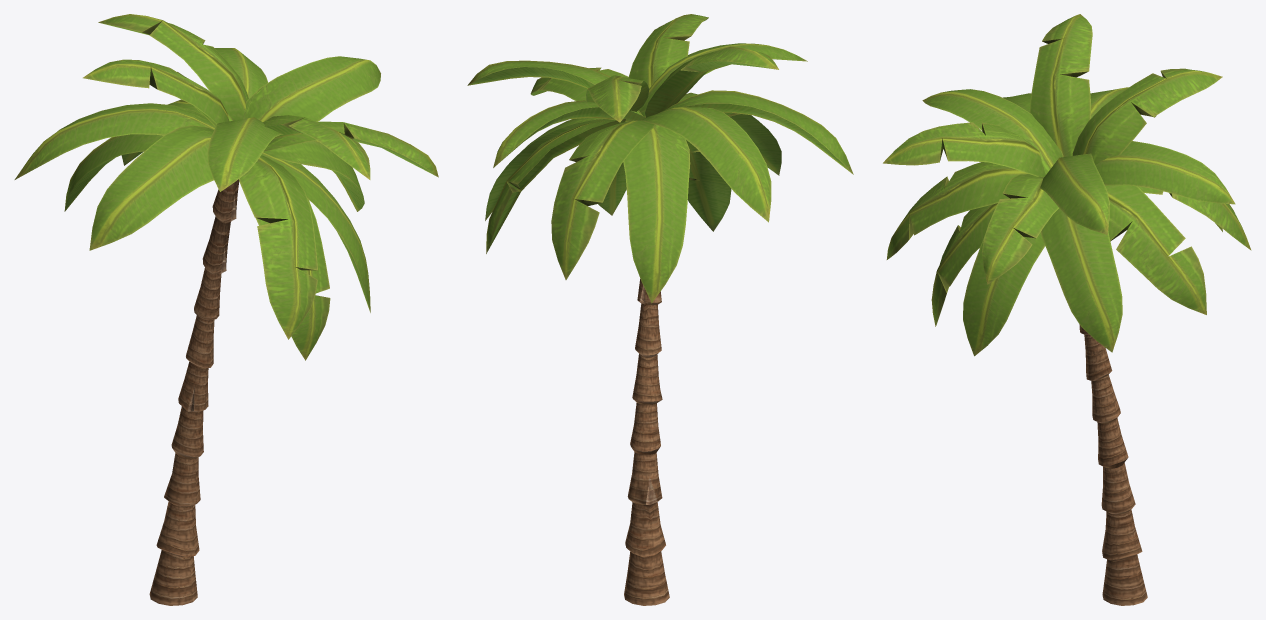
The model's file is prop4.glb.
3 renders of one model, left to right at view 1: azimuth 30°, elevation 25°; view 2: azimuth 150°, elevation 25°; view 3: azimuth 270°, elevation 25°, orthographic. The views are drawn at different scales.
Parts seen in each view (by area): view 1: PP_Prop_04; view 2: PP_Prop_04; view 3: PP_Prop_04.
Boxes of the visible parts, bbox=[...] form: PP_Prop_04: bbox=[14, 14, 438, 605]; PP_Prop_04: bbox=[467, 14, 853, 605]; PP_Prop_04: bbox=[883, 14, 1251, 605].
Bounding box in the file's own units: 2.98 × 4.67 × 2.9.
Materials: 1 (1 with a texture image).
